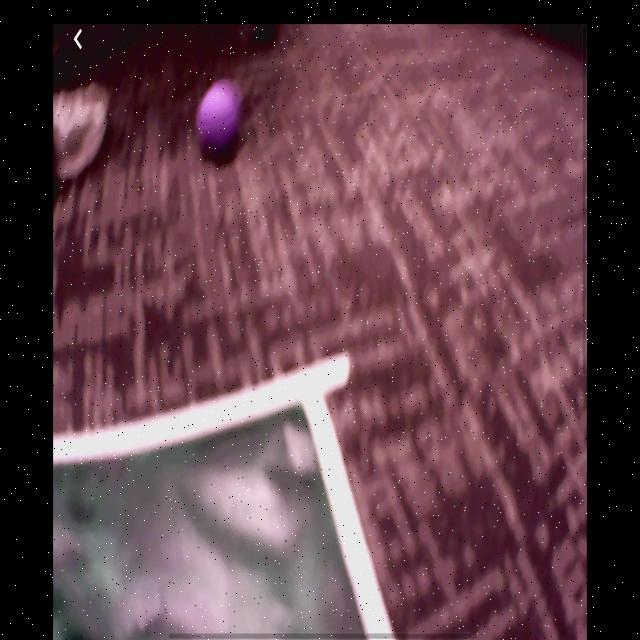ball: (193, 84, 242, 149)
